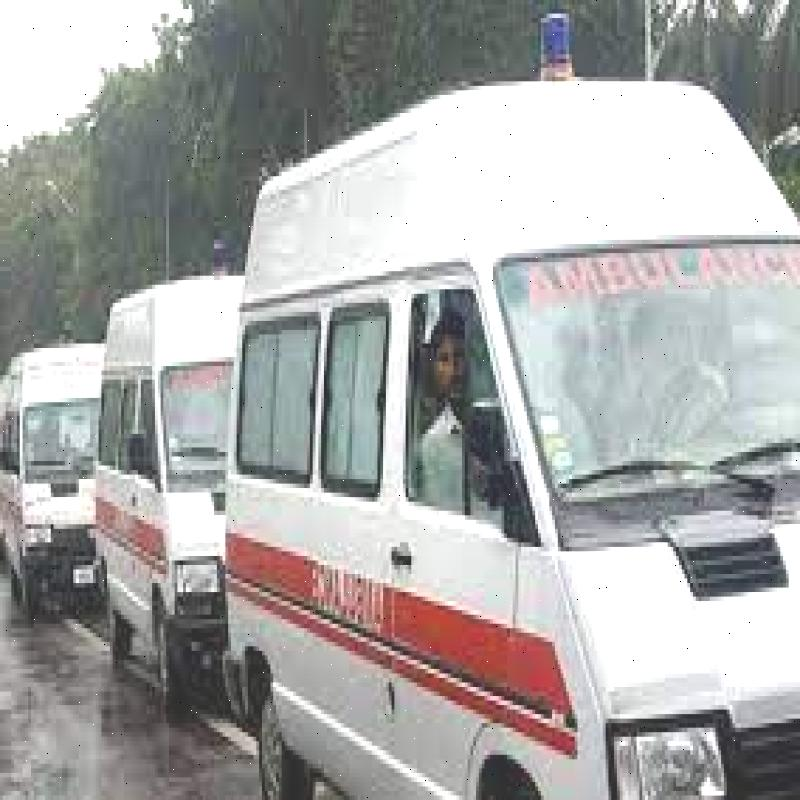AmbulanceSiren: (530, 1, 587, 88)
ambulance: (213, 3, 800, 800), (62, 258, 288, 684)
